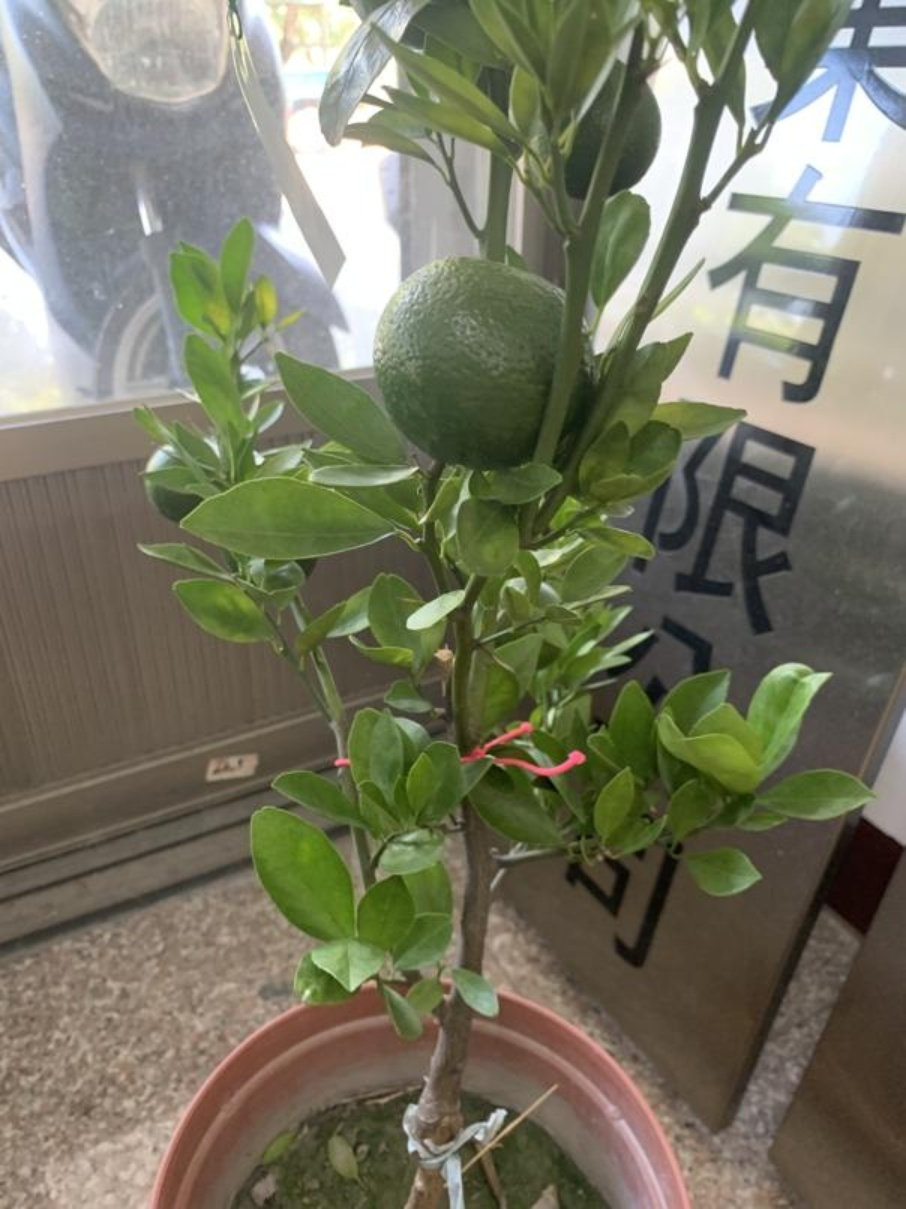Tangerine: (370, 264, 590, 464)
